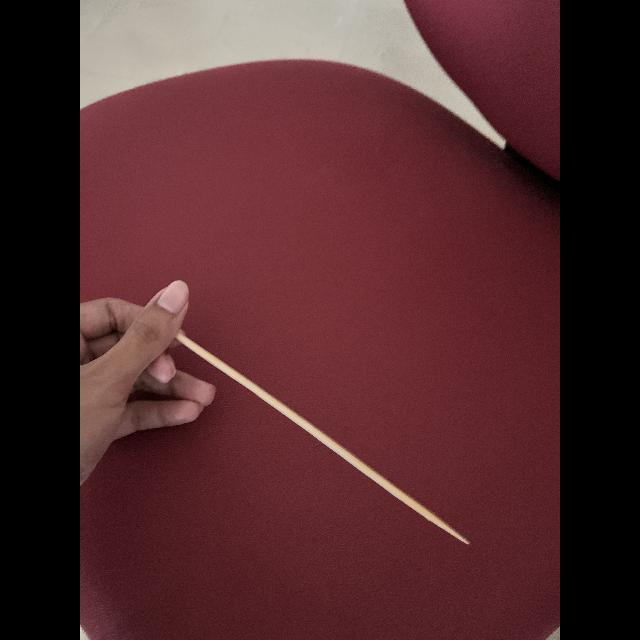stick: (169, 330, 467, 548)
